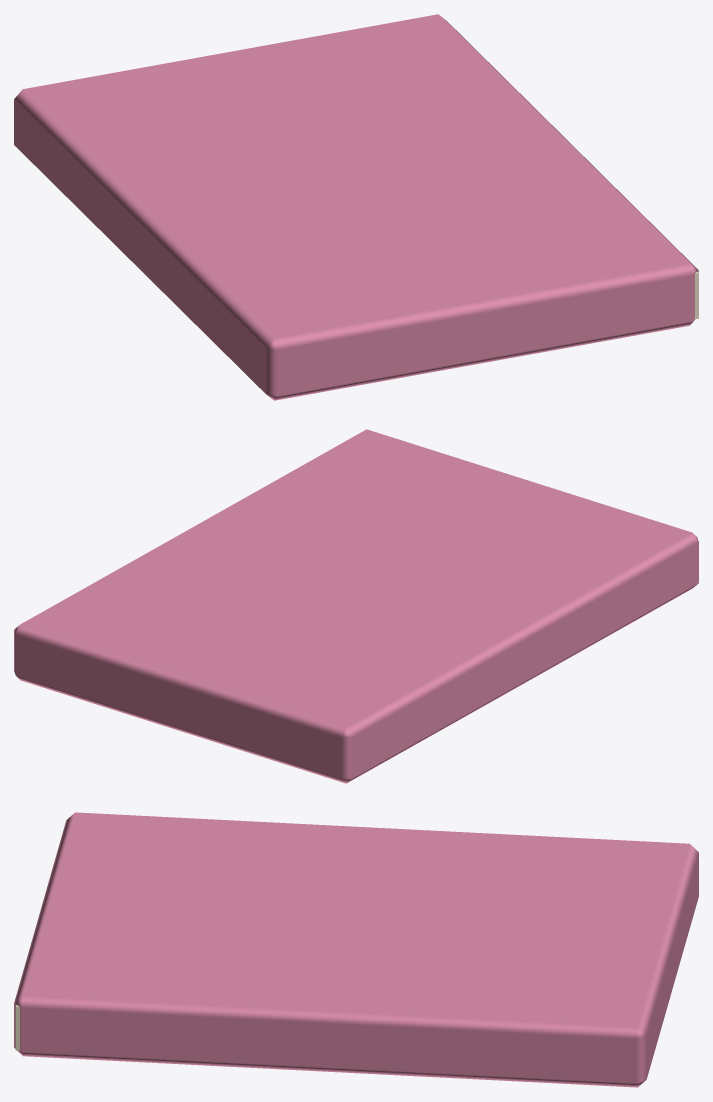
Rendered from book_desk_2.fbx.
The picture shows the model from 3 angles, top to bottom: view 1: azimuth 30°, elevation 25°; view 2: azimuth 150°, elevation 25°; view 3: azimuth 270°, elevation 25°; orthographic projection. The views are drawn at different scales.
Visible parts, largest first — view 1: book_desk_2; view 2: book_desk_2; view 3: book_desk_2.
Boxes of the visible parts, x1,y1,x2,y2 form: book_desk_2: (14, 14, 698, 400); book_desk_2: (14, 429, 698, 783); book_desk_2: (14, 812, 698, 1087).
Size of the model in its own units: 0.1733 by 0.022 by 0.2257.
